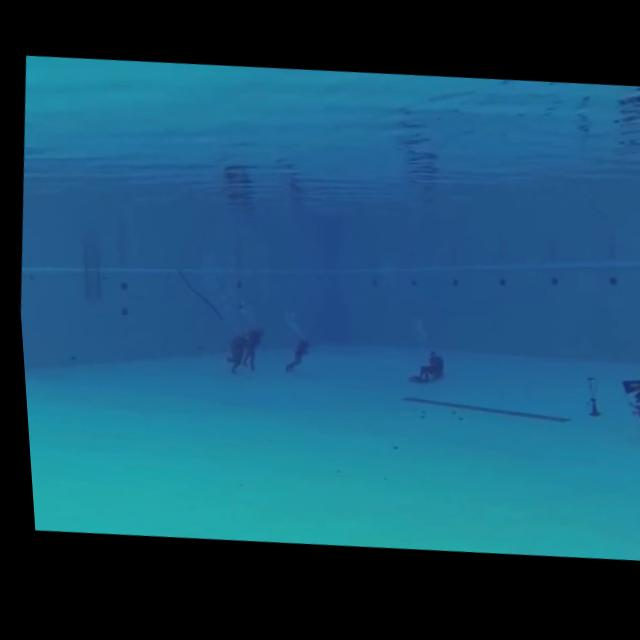human: (603, 375, 640, 451), (397, 344, 446, 393), (273, 325, 313, 379), (209, 322, 243, 383), (231, 318, 265, 377)
